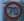Speed Limit -70-: (0, 0, 23, 20)
